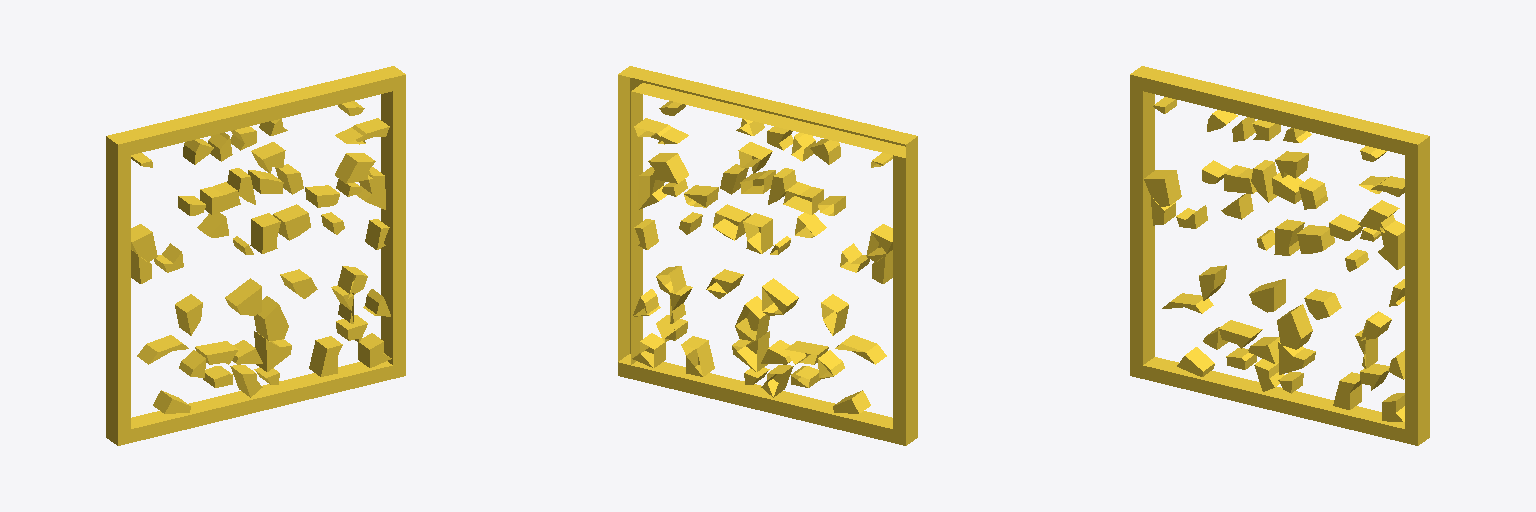
The model's file is RandomPolygons_planar_env_blender.obj.
The picture shows the model from 3 angles: view 1: azimuth 30°, elevation 25°; view 2: azimuth 150°, elevation 25°; view 3: azimuth 330°, elevation 25°; orthographic projection.
Visible parts, largest first — view 1: instance_0.002_ID17, instance_0.009_ID59.001, instance_0.032_ID197, instance_0.019_ID119, instance_0.013_ID83, instance_0.011_ID71.001, instance_0.010_ID65.001, instance_0.026_ID161, instance_0.038_ID233, instance_0.027_ID167, instance_0.033_ID203, instance_0.004_ID29 (+16 smaller); view 2: instance_0.002_ID17, instance_0.009_ID59.001, instance_0.032_ID197, instance_0.019_ID119, instance_0.013_ID83, instance_0.011_ID71.001, instance_0.010_ID65.001, instance_0.026_ID161, instance_0.038_ID233, instance_0.027_ID167, instance_0.033_ID203, instance_0.004_ID29 (+16 smaller); view 3: instance_0.002_ID17, instance_0.009_ID59.001, instance_0.032_ID197, instance_0.019_ID119, instance_0.013_ID83, instance_0.010_ID65.001, instance_0.027_ID167, instance_0.026_ID161, instance_0.011_ID71.001, instance_0.016_ID101, instance_0.023_ID143.001, instance_0.035_ID215 (+12 smaller).
Boxes of the visible parts, x1=… form: instance_0.002_ID17: x1=106, y1=66, x2=405, y2=445; instance_0.009_ID59.001: x1=254, y1=296, x2=291, y2=371; instance_0.032_ID197: x1=335, y1=153, x2=385, y2=209; instance_0.019_ID119: x1=131, y1=224, x2=157, y2=283; instance_0.013_ID83: x1=331, y1=266, x2=367, y2=323; instance_0.011_ID71.001: x1=309, y1=336, x2=342, y2=376; instance_0.010_ID65.001: x1=225, y1=278, x2=261, y2=315; instance_0.026_ID161: x1=250, y1=213, x2=280, y2=253; instance_0.038_ID233: x1=200, y1=182, x2=240, y2=214; instance_0.027_ID167: x1=273, y1=204, x2=310, y2=240; instance_0.033_ID203: x1=335, y1=118, x2=389, y2=144; instance_0.004_ID29: x1=175, y1=294, x2=202, y2=335; instance_0.002_ID17: x1=618, y1=66, x2=917, y2=445; instance_0.009_ID59.001: x1=732, y1=296, x2=769, y2=371; instance_0.032_ID197: x1=638, y1=153, x2=688, y2=209; instance_0.019_ID119: x1=866, y1=224, x2=892, y2=283; instance_0.013_ID83: x1=656, y1=266, x2=692, y2=323; instance_0.011_ID71.001: x1=681, y1=336, x2=714, y2=376; instance_0.010_ID65.001: x1=762, y1=278, x2=798, y2=315; instance_0.026_ID161: x1=743, y1=213, x2=773, y2=253; instance_0.038_ID233: x1=783, y1=182, x2=823, y2=214; instance_0.027_ID167: x1=713, y1=204, x2=750, y2=240; instance_0.033_ID203: x1=634, y1=118, x2=688, y2=144; instance_0.004_ID29: x1=821, y1=294, x2=848, y2=335; instance_0.002_ID17: x1=1130, y1=66, x2=1429, y2=445; instance_0.009_ID59.001: x1=1277, y1=304, x2=1315, y2=374; instance_0.032_ID197: x1=1358, y1=200, x2=1404, y2=269; instance_0.019_ID119: x1=1144, y1=170, x2=1181, y2=225; instance_0.013_ID83: x1=1355, y1=311, x2=1391, y2=368; instance_0.010_ID65.001: x1=1249, y1=279, x2=1285, y2=312; instance_0.027_ID167: x1=1297, y1=225, x2=1334, y2=253; instance_0.026_ID161: x1=1274, y1=219, x2=1304, y2=255; instance_0.011_ID71.001: x1=1333, y1=372, x2=1361, y2=409; instance_0.016_ID101: x1=1304, y1=289, x2=1341, y2=319; instance_0.023_ID143.001: x1=1251, y1=160, x2=1276, y2=202; instance_0.035_ID215: x1=1219, y1=320, x2=1262, y2=348.
Size of the model in its own units: 110 by 110 by 7.87.